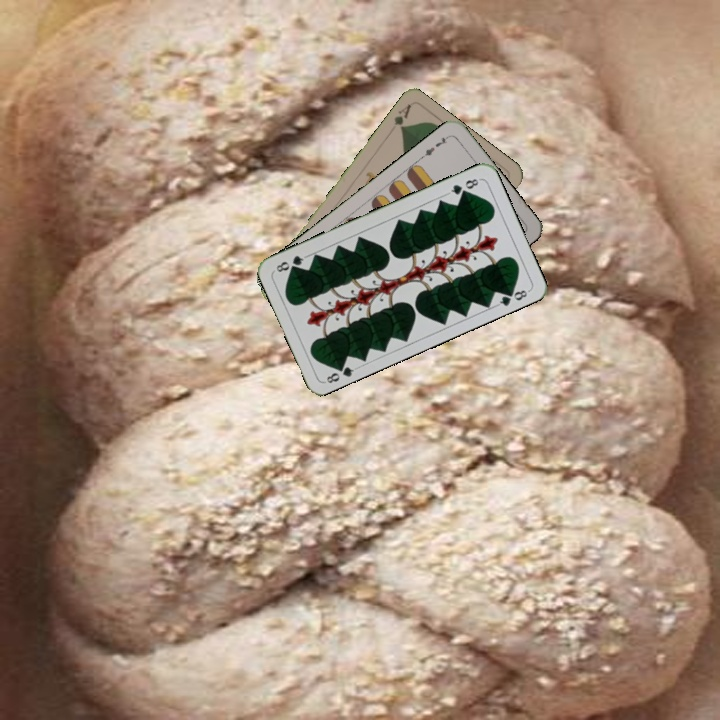E7: (417, 131, 452, 161)
G8: (320, 359, 360, 386), (444, 174, 483, 197)
GA: (390, 100, 414, 133)
